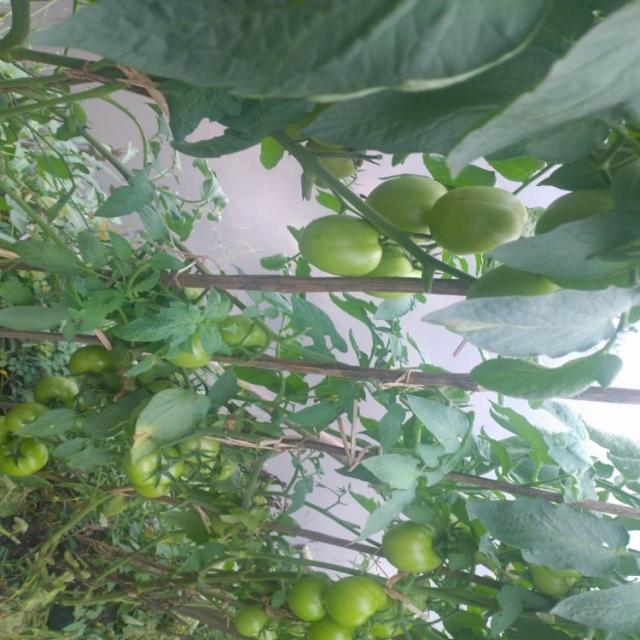tomato: (426, 179, 525, 258), (296, 206, 385, 279), (368, 171, 449, 250), (375, 517, 456, 588), (324, 572, 388, 637), (530, 188, 616, 228), (467, 266, 552, 304), (122, 442, 179, 493), (218, 312, 275, 362), (527, 565, 586, 606), (218, 602, 278, 640), (37, 375, 88, 419), (310, 140, 360, 183), (290, 572, 332, 622), (68, 340, 114, 384), (1, 440, 49, 478), (181, 432, 225, 469)
